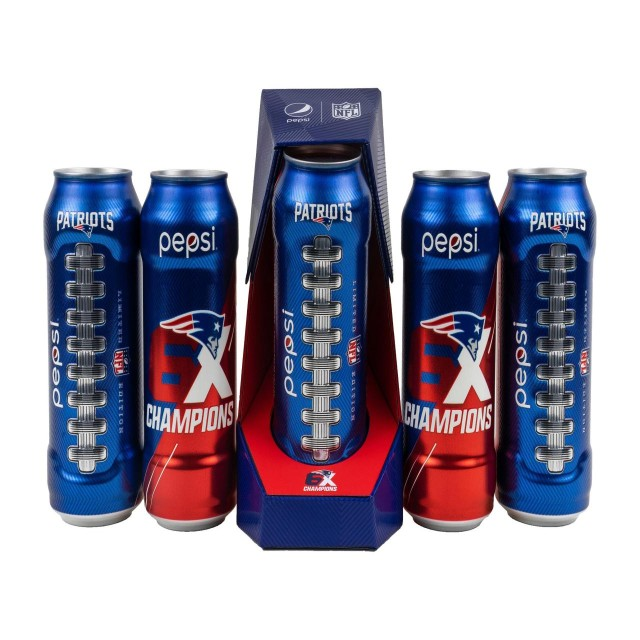pepsi: (157, 224, 218, 262), (420, 225, 481, 260)
